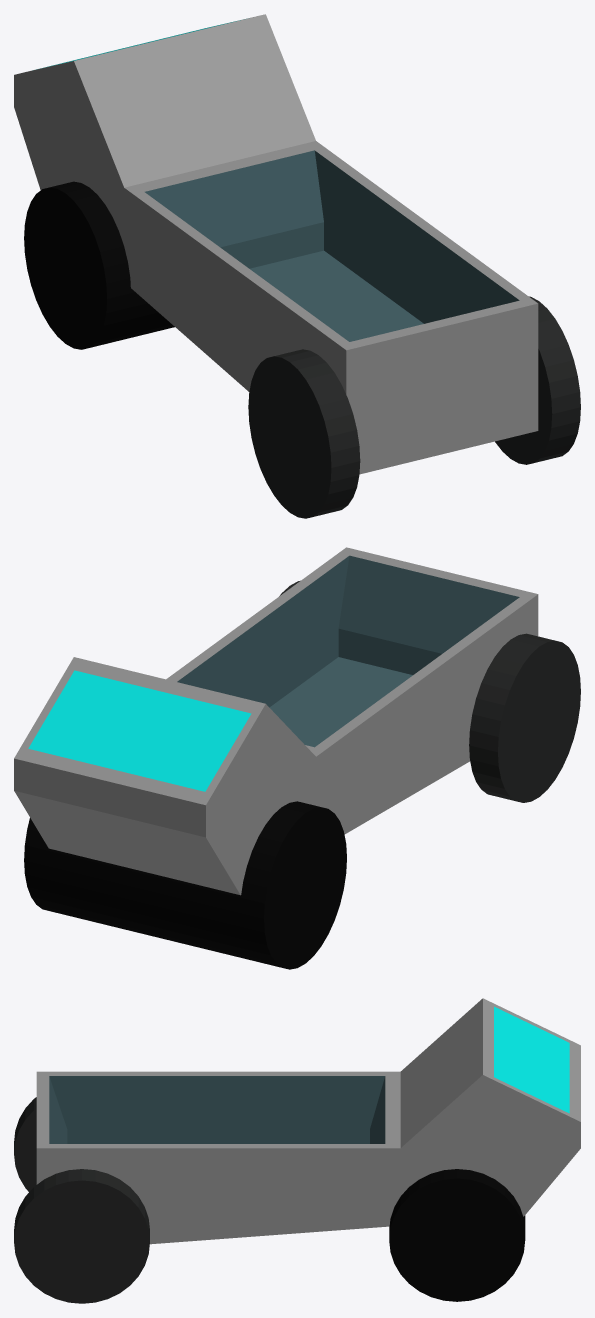
Rendered from CyberF---.fbx.
The picture shows the model from 3 angles, top to bottom: view 1: azimuth 30°, elevation 25°; view 2: azimuth 150°, elevation 25°; view 3: azimuth 270°, elevation 25°; orthographic projection. The views are drawn at different scales.
Visible parts, largest first — view 1: Cube, Cylinder, Cylinder.002, Cylinder.001; view 2: Cube, Cylinder, Cylinder.002; view 3: Cube, Cylinder.001, Cylinder, Cylinder.002.
Part boxes in pixels (x1,y1,x2,y2): Cube: (14, 14, 538, 474); Cylinder: (24, 181, 174, 349); Cylinder.002: (248, 349, 360, 518); Cylinder.001: (495, 296, 580, 464); Cube: (14, 547, 538, 895); Cylinder: (24, 801, 346, 969); Cylinder.002: (469, 633, 580, 802); Cube: (36, 998, 580, 1244); Cylinder.001: (14, 1169, 149, 1303); Cylinder: (389, 1169, 525, 1301); Cylinder.002: (14, 1097, 36, 1191).
Size of the model in its own units: 260 by 264 by 625.
